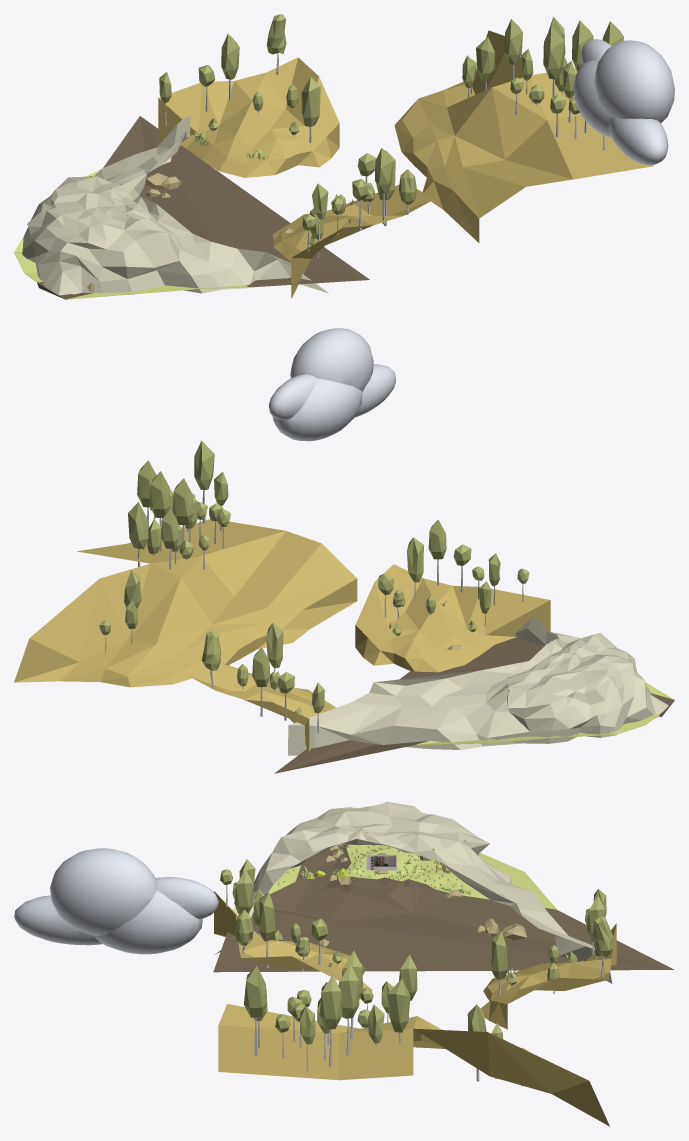
The model's file is cave_no_water_ib.fbx.
3 views of the same model, one above another, from view 1: azimuth 30°, elevation 25°; view 2: azimuth 150°, elevation 25°; view 3: azimuth 270°, elevation 25° (orthographic). The views are drawn at different scales.
Visible parts, largest first — view 1: hill, cave, trees, cave_floor, cloud, bark, floor_grass, stones; view 2: hill, cave, trees, cloud, cave_floor, bark, floor_grass; view 3: hill, cave_floor, cloud, trees, cave, floor_grass, stones, bark, screen.
Part boxes in pixels (x1,y1,x2,y2): hill: (158, 30, 653, 298); cave: (22, 115, 328, 296); trees: (159, 14, 623, 245); cave_floor: (37, 116, 369, 299); cloud: (573, 39, 674, 164); bark: (164, 53, 604, 258); floor_grass: (14, 170, 248, 299); stones: (87, 173, 353, 292); hill: (14, 519, 550, 755); cave: (288, 617, 668, 755); trees: (99, 440, 529, 715); cloud: (269, 328, 395, 441); cave_floor: (274, 637, 674, 773); bark: (105, 490, 523, 733); floor_grass: (415, 682, 674, 745); hill: (214, 891, 616, 1126); cave_floor: (213, 844, 674, 972); cloud: (14, 848, 218, 954); trees: (220, 859, 613, 1050); cave: (214, 802, 612, 983); floor_grass: (268, 845, 556, 909); stones: (271, 844, 526, 967); bark: (226, 885, 603, 1086); screen: (366, 855, 396, 870).
Bounding box in the file's own units: 14750 × 5361 × 13700.
